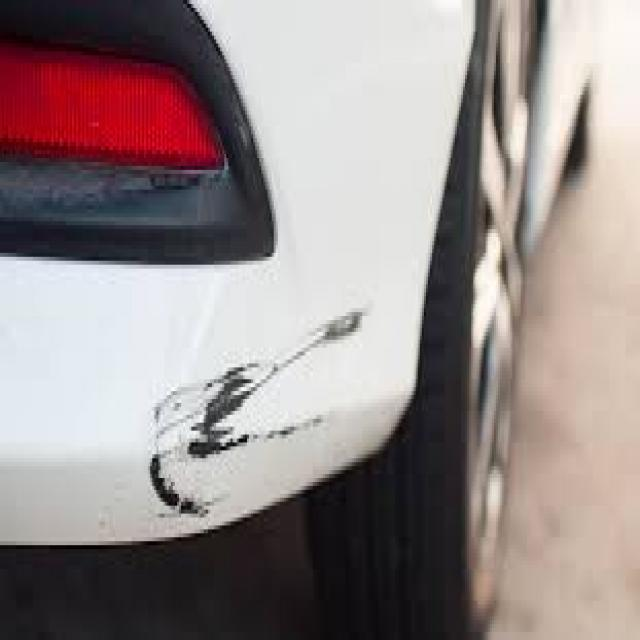minor: (121, 245, 403, 528)
